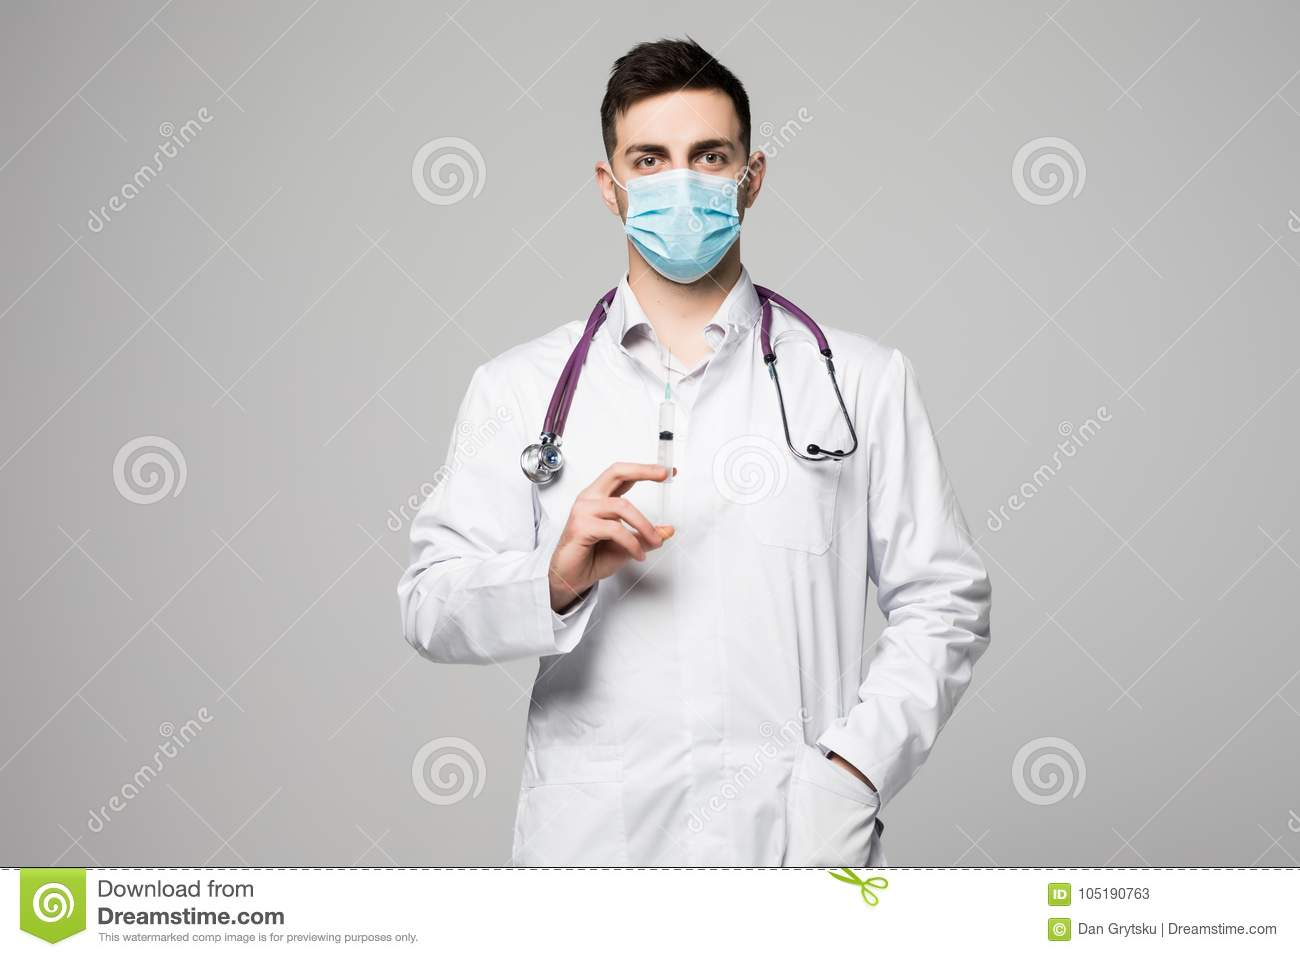mask: (613, 173, 758, 286)
